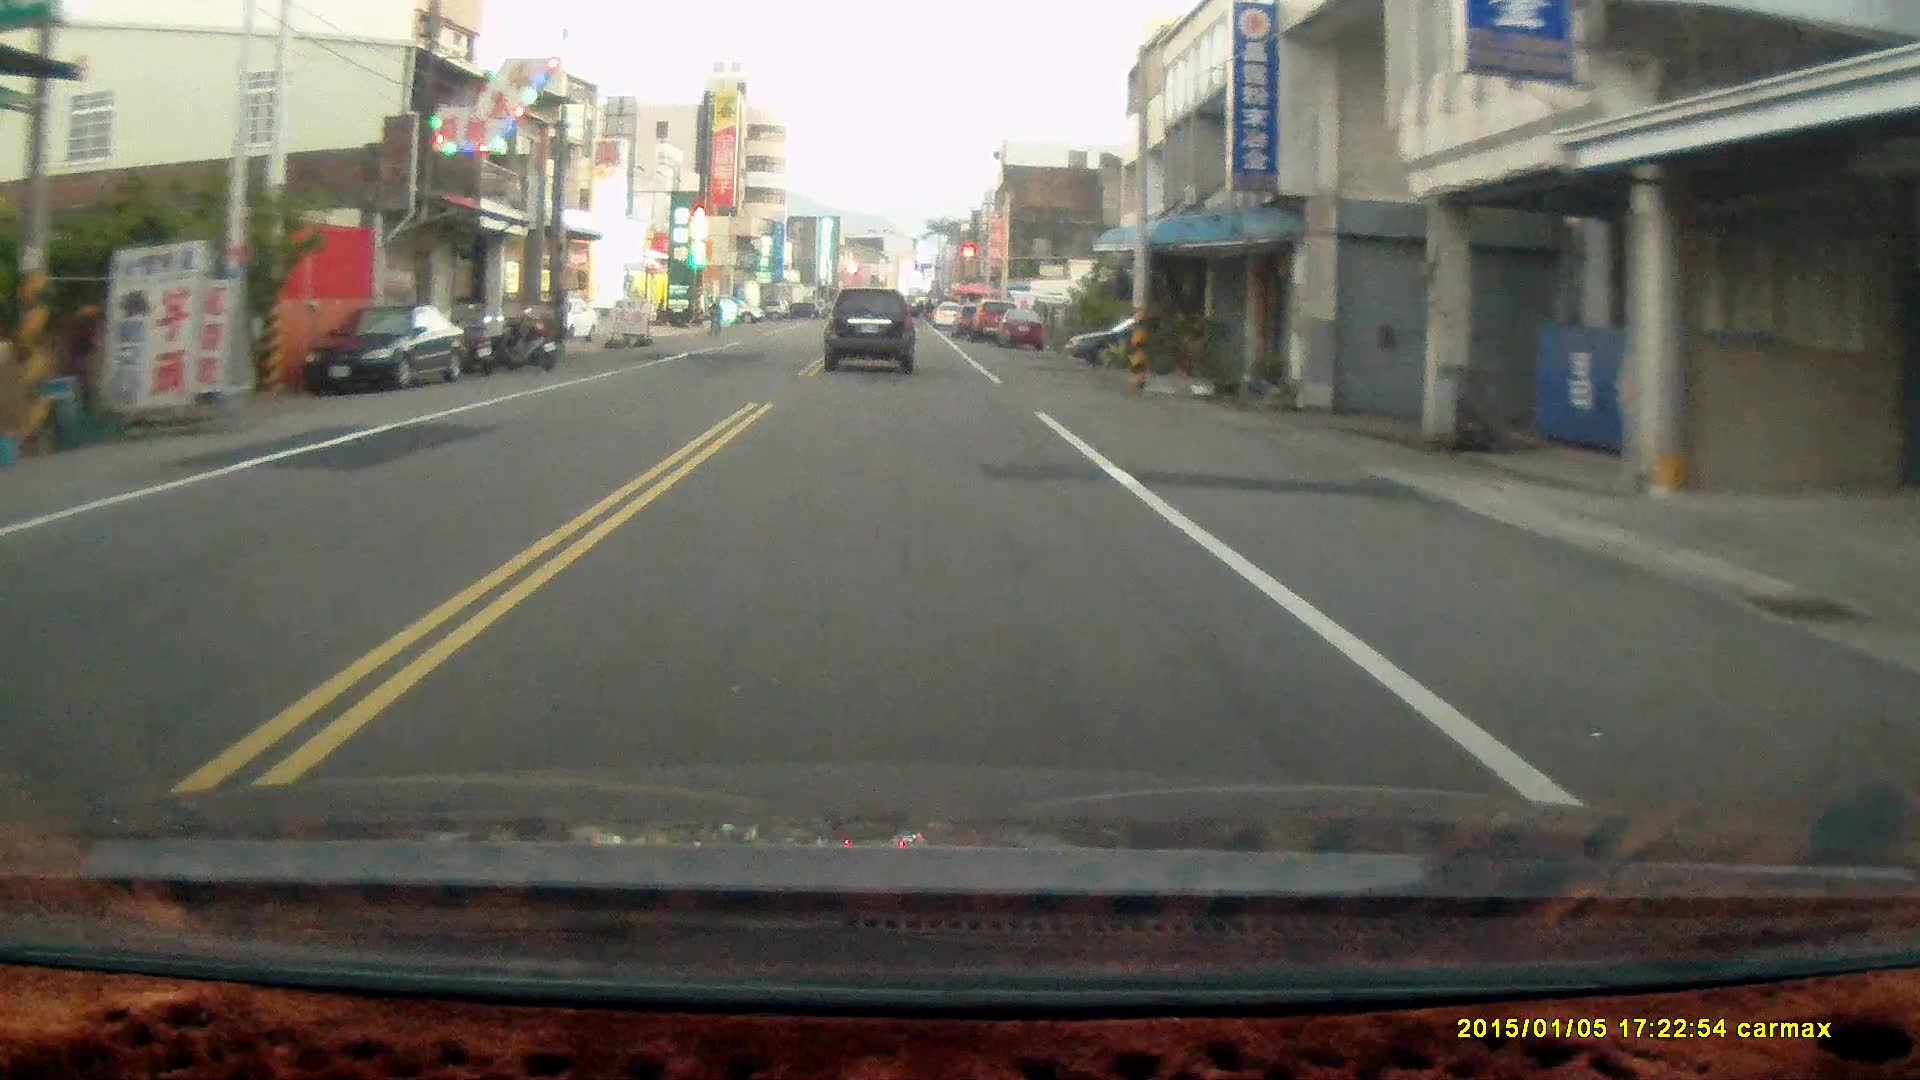pedestrian: (59, 297, 99, 421)
rider: (702, 294, 724, 338)
vehicle: (299, 306, 469, 395), (823, 286, 917, 375)
